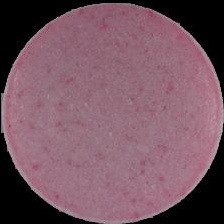51862-172: (0, 0, 224, 224)
